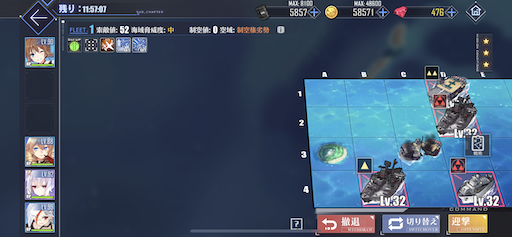lv1: (356, 157, 406, 206)
lv3: (449, 158, 499, 204), (432, 94, 478, 136)
